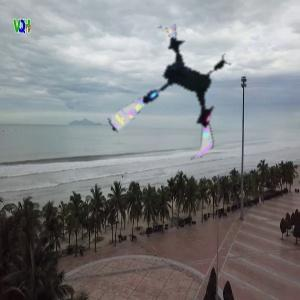drone: (107, 28, 250, 171)
